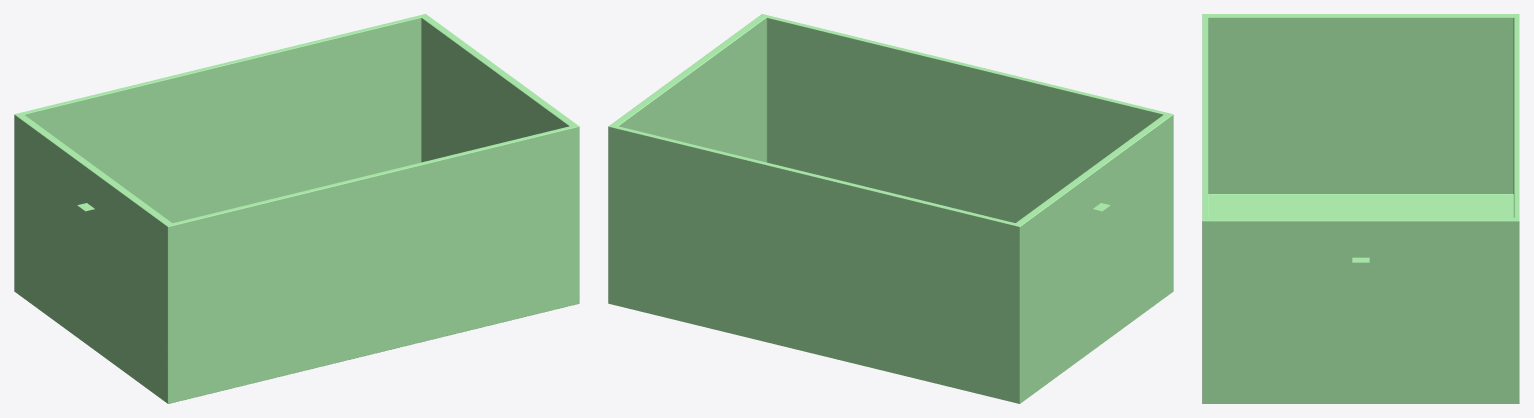
File: yeşilplastik.fbx
3 renders of one model, left to right at view 1: azimuth 30°, elevation 25°; view 2: azimuth 150°, elevation 25°; view 3: azimuth 270°, elevation 25°, orthographic. The views are drawn at different scales.
Parts seen in each view (by area): view 1: Cube; view 2: Cube; view 3: Cube.
Boxes of the visible parts, left/top/right/bottom form: Cube: left=14, top=14, right=579, bottom=403; Cube: left=608, top=14, right=1173, bottom=403; Cube: left=1202, top=14, right=1519, bottom=403.
Bounding box in the file's own units: 178 × 70 × 110.
